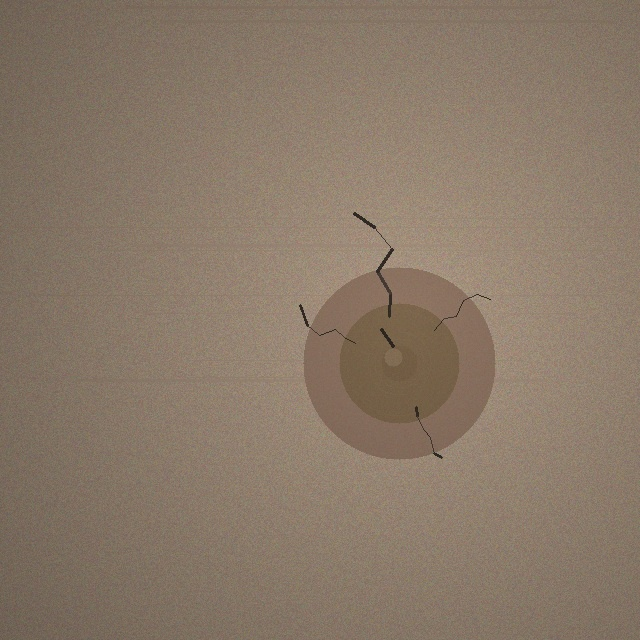crack: (303, 267, 495, 459)
